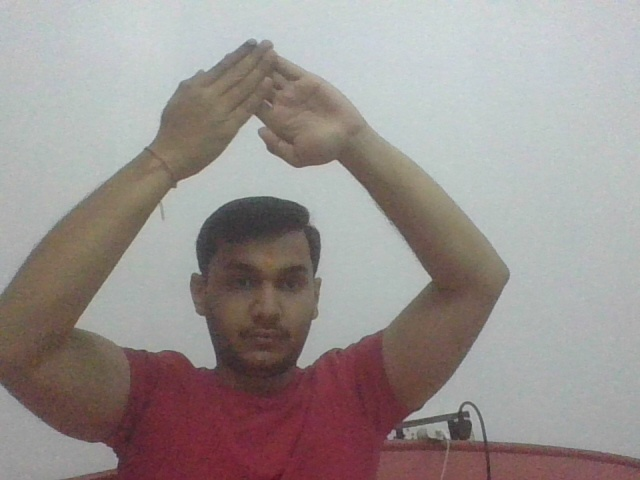H: (163, 31, 357, 171)
